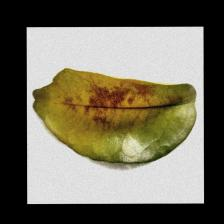black spot: (63, 75, 170, 137)
